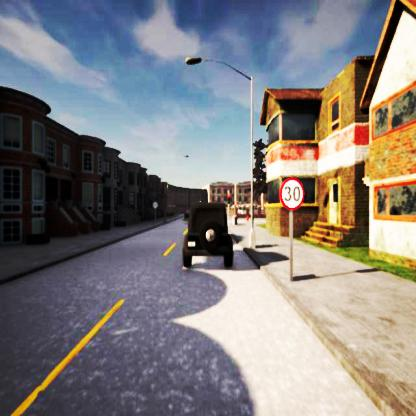vehicle: (183, 201, 235, 267)
